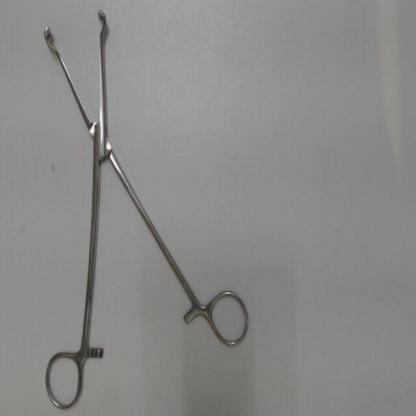8 Babcock Tissue Forceps: (38, 5, 256, 413)
